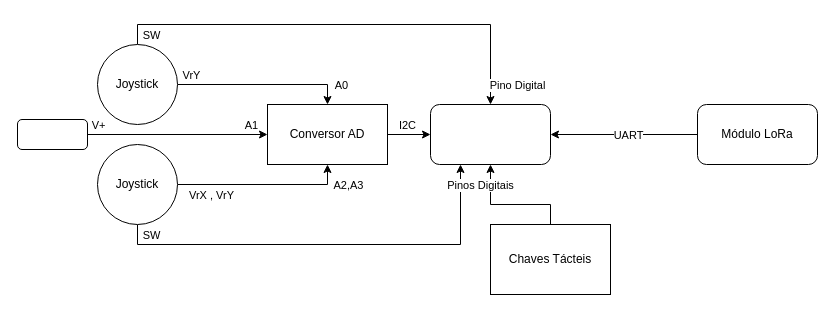
This 835x312 diagram has some shape labels left out. The centre of each missing label's shape, as x and y in pixels:
"Bateria" goes at point (52, 134).
"Raspberry Pi 3B+" goes at point (490, 134).
